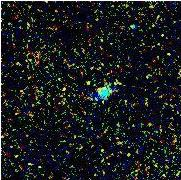star: (72, 67, 102, 97)
